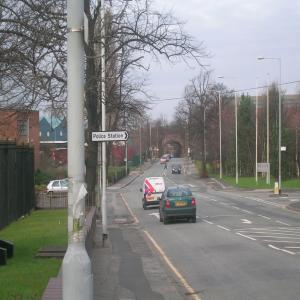Vehicle-registration-plate: (176, 203, 186, 207), (149, 197, 155, 200), (176, 170, 179, 173)
